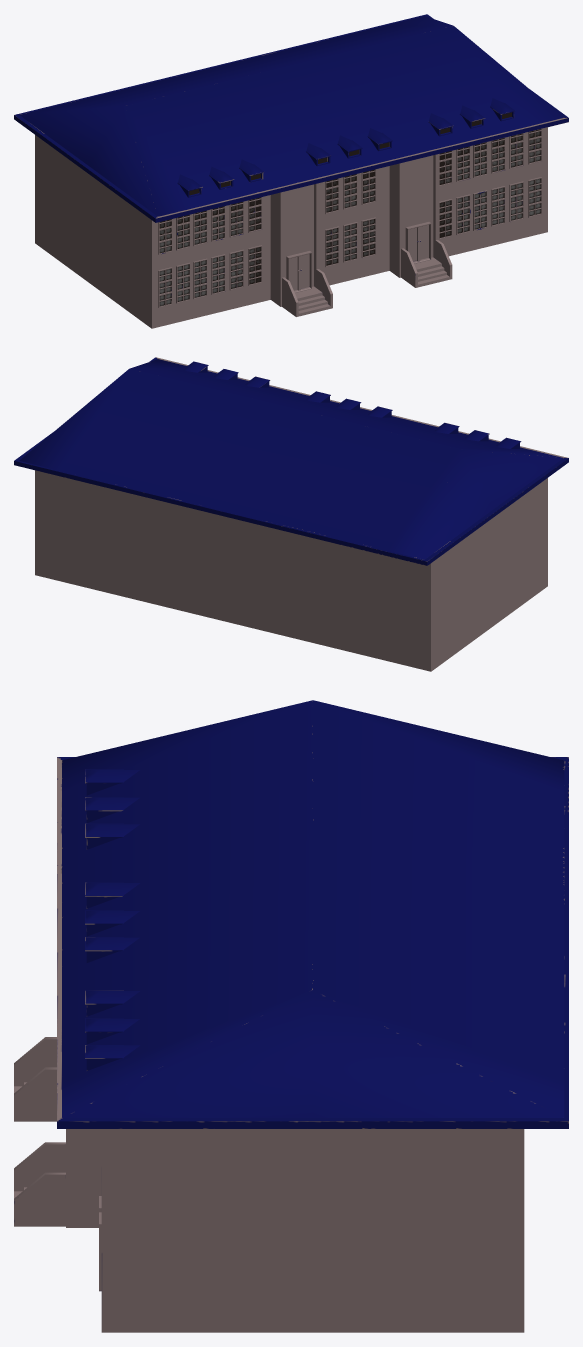
The model's file is Building_2.fbx.
The picture shows the model from 3 angles, top to bottom: view 1: azimuth 30°, elevation 25°; view 2: azimuth 150°, elevation 25°; view 3: azimuth 270°, elevation 25°; orthographic projection. The views are drawn at different scales.
Visible parts, largest first — view 1: Roof, pCube1, pCube8, pCube9, pCube40, pCube20, pCube38, pCube41, pCube18, pCube36, pCube16, pCube17 (+24 smaller); view 2: Roof, pCube1; view 3: Roof, pCube1, pCube7, pCube14, pCube6, pCube15, pCube49, pCube52, pCube59, pCube48, pCube47, pCube51 (+3 smaller).
Boxes of the visible parts, x1=… form: Roof: x1=14, y1=14, x2=568, y2=222; pCube1: x1=35, y1=127, x2=547, y2=328; pCube8: x1=405, y1=222, x2=431, y2=263; pCube9: x1=286, y1=251, x2=311, y2=292; pCube40: x1=361, y1=217, x2=376, y2=258; pCube20: x1=176, y1=262, x2=190, y2=303; pCube38: x1=509, y1=181, x2=523, y2=222; pCube41: x1=343, y1=222, x2=357, y2=262; pCube18: x1=211, y1=254, x2=225, y2=294; pCube36: x1=473, y1=190, x2=487, y2=230; pCube16: x1=248, y1=245, x2=262, y2=285; pCube17: x1=229, y1=249, x2=243, y2=290; Roof: x1=14, y1=357, x2=568, y2=565; pCube1: x1=35, y1=470, x2=547, y2=671; Roof: x1=57, y1=700, x2=568, y2=1128; pCube1: x1=66, y1=1129, x2=524, y2=1332; pCube7: x1=14, y1=1172, x2=65, y2=1226; pCube14: x1=14, y1=1067, x2=56, y2=1121; pCube6: x1=14, y1=1142, x2=65, y2=1191; pCube15: x1=14, y1=1037, x2=56, y2=1086; pCube49: x1=85, y1=823, x2=139, y2=849; pCube52: x1=85, y1=882, x2=140, y2=908; pCube59: x1=85, y1=990, x2=139, y2=1016; pCube48: x1=85, y1=797, x2=139, y2=822; pCube47: x1=85, y1=769, x2=139, y2=795; pCube51: x1=85, y1=910, x2=139, y2=936.
Bounding box in the file's own units: 23.28 × 9.28 × 14.99.
